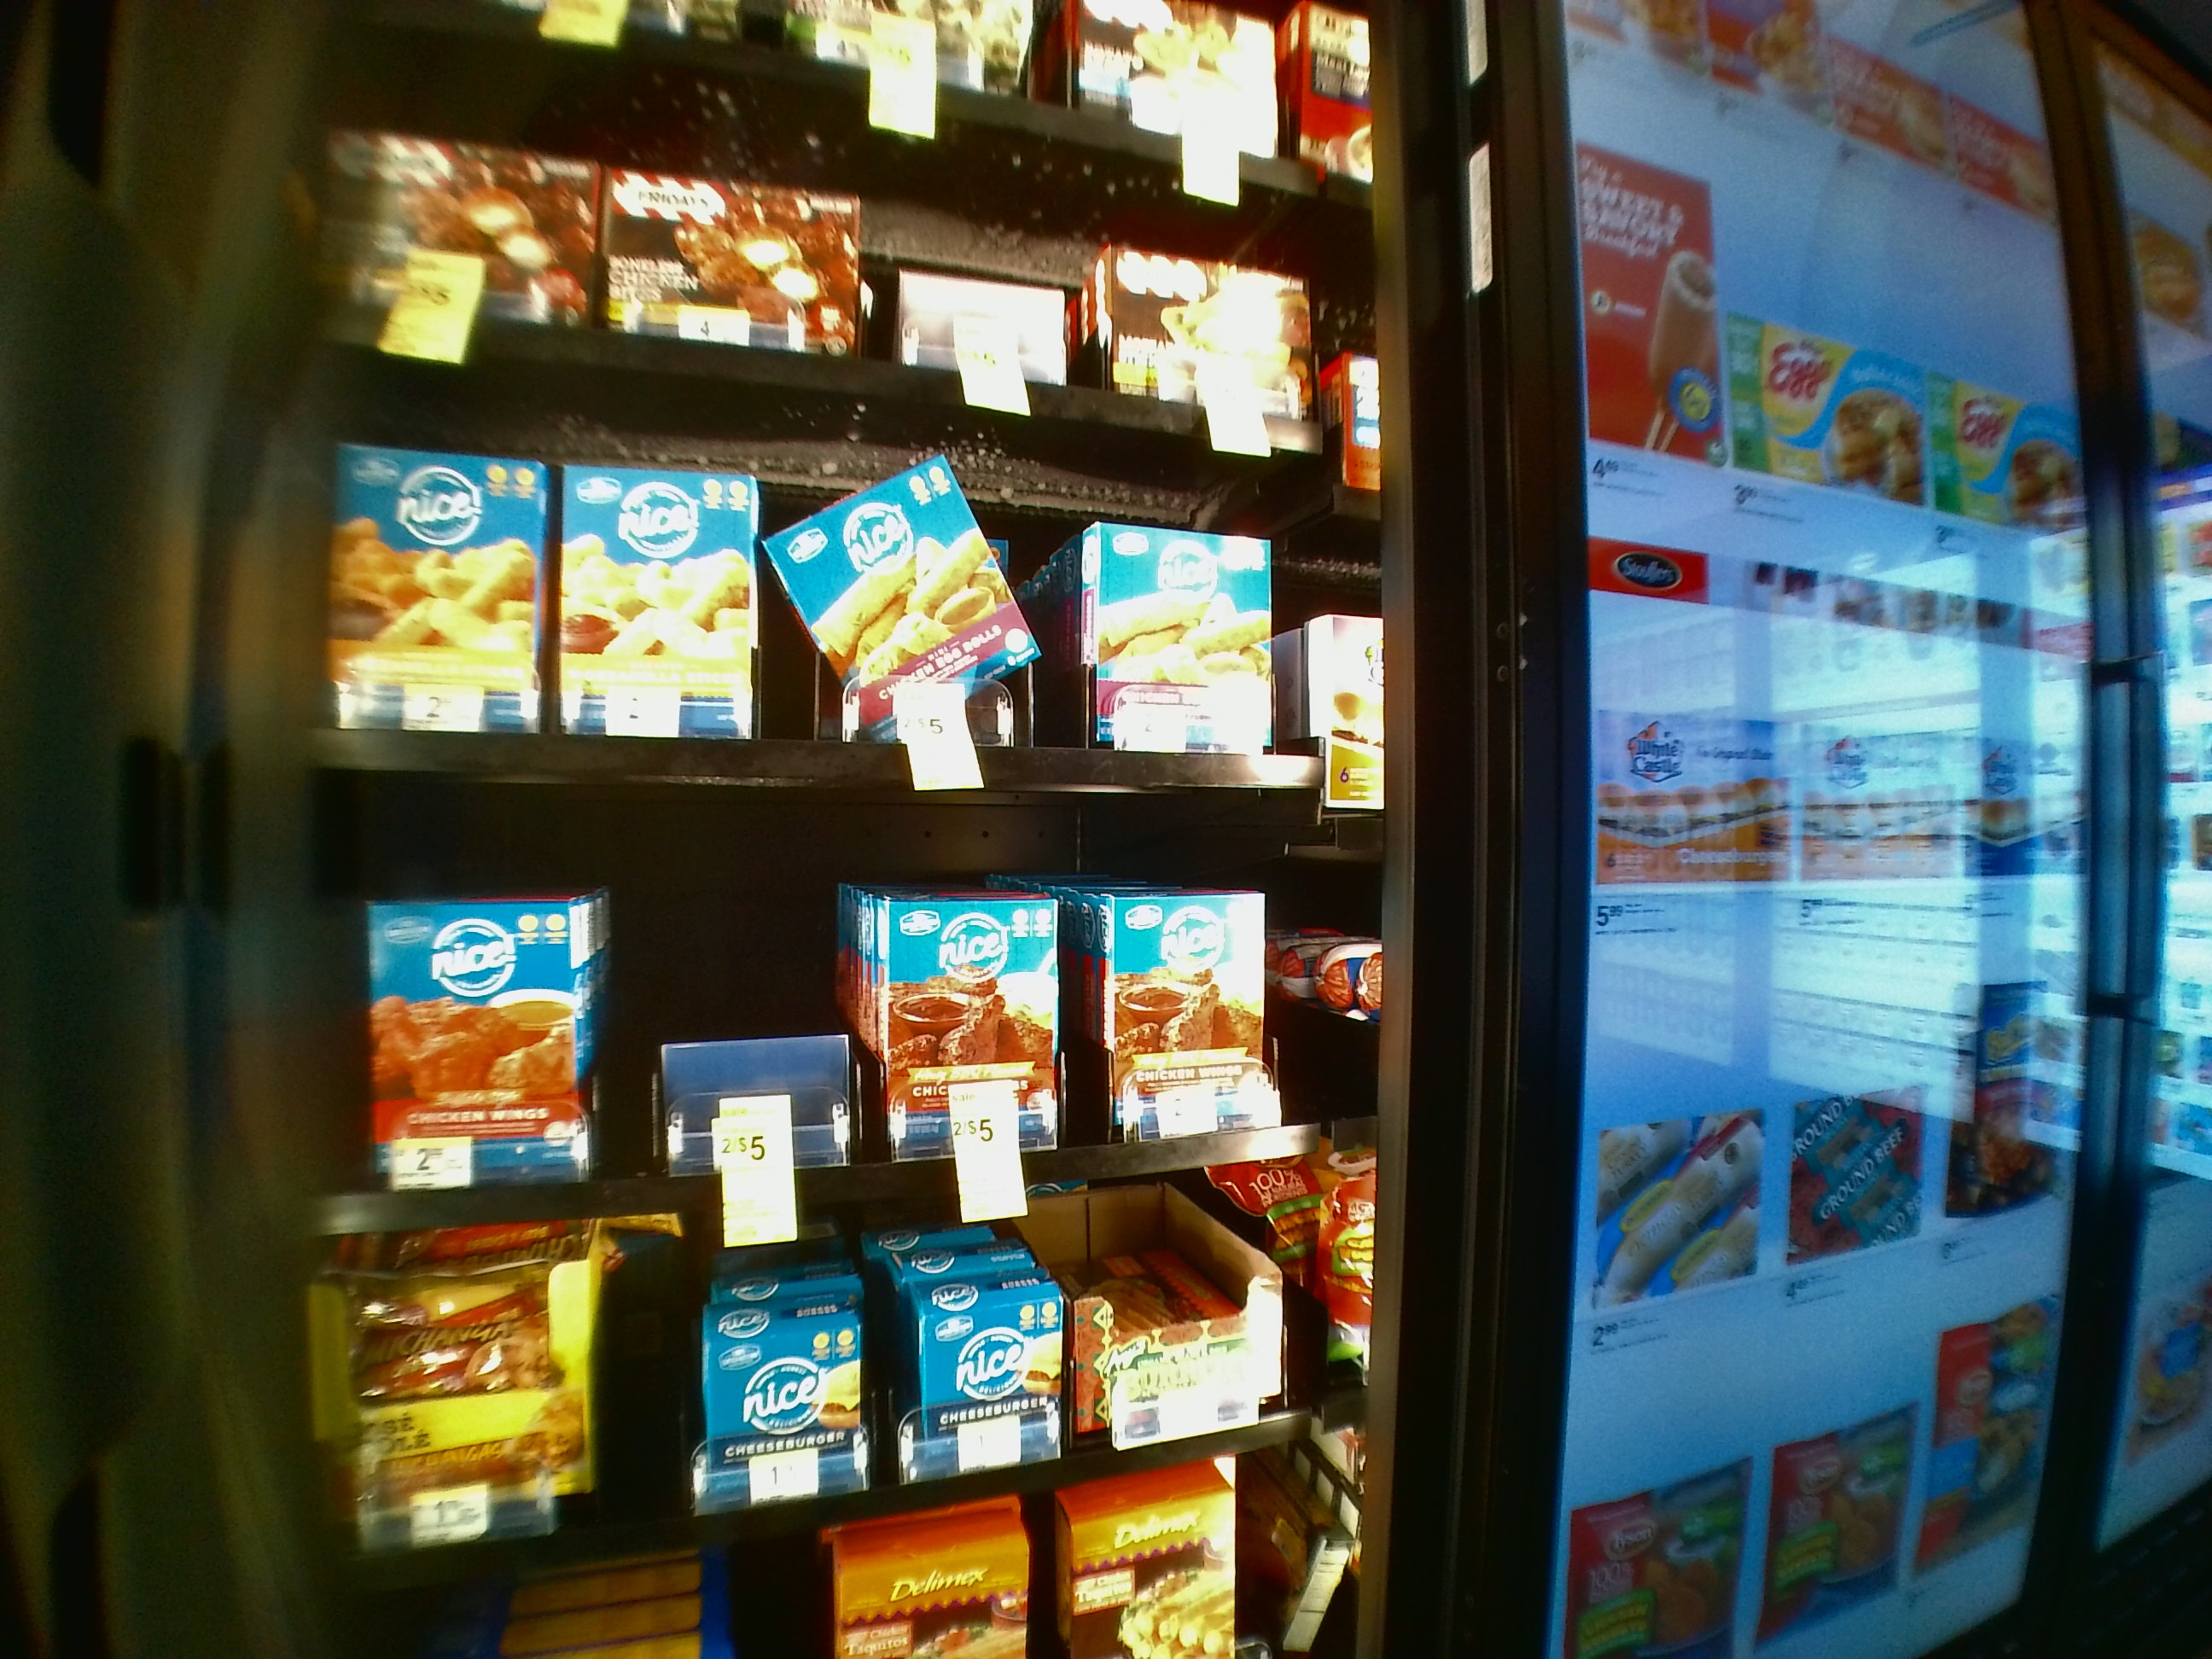shelf: (298, 352, 1378, 798), (296, 814, 1379, 1251)
